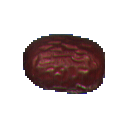gd: (19, 26, 120, 101)
